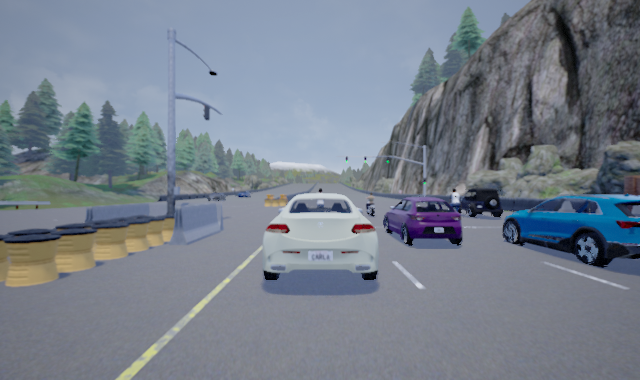bike: (447, 187, 464, 225), (316, 186, 324, 224)
motobike: (362, 194, 378, 217)
vehicle: (259, 192, 379, 281), (499, 192, 639, 267), (384, 197, 463, 246), (450, 188, 507, 218), (207, 191, 226, 202), (237, 191, 250, 198)
